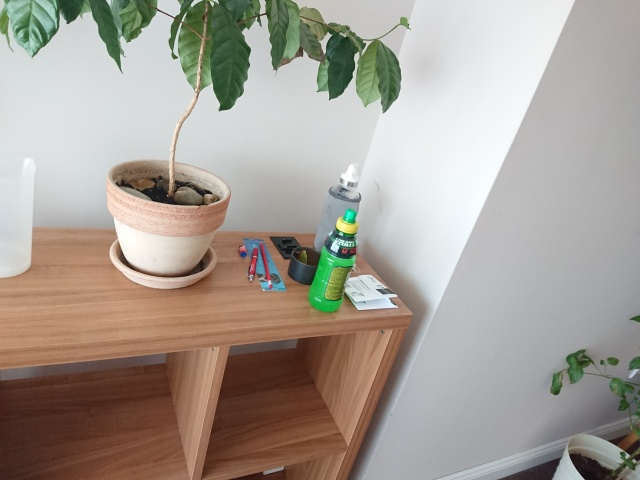Vindi Iso Sport Lemon-Grapefruit 500mL: (305, 207, 361, 314)
